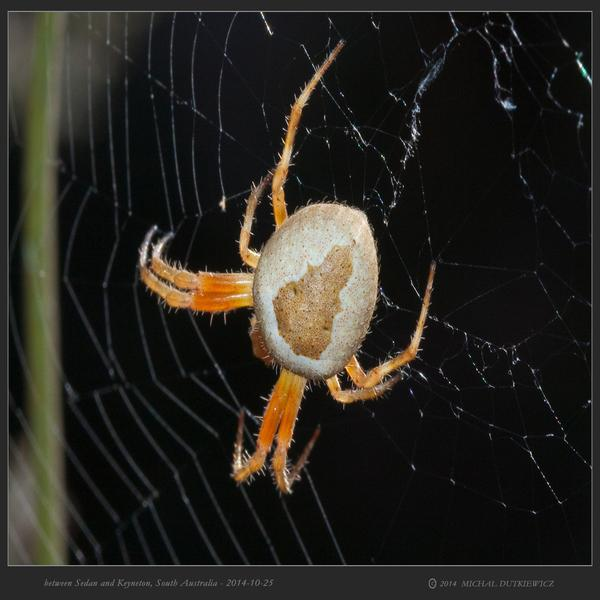Garden_Orb_Weaver_Spider: (136, 38, 438, 493)
